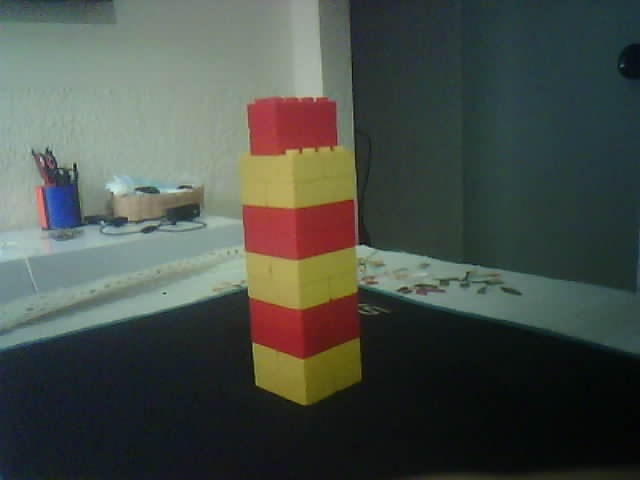lego: (238, 95, 363, 408)
